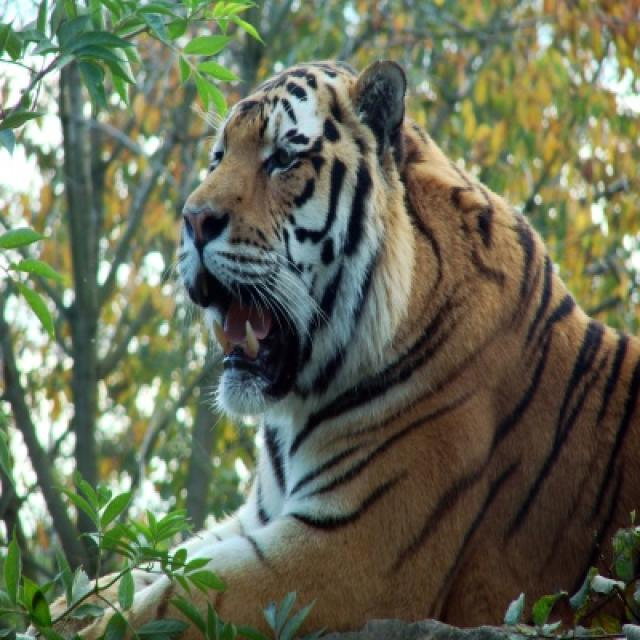Tiger: (35, 53, 638, 635)
